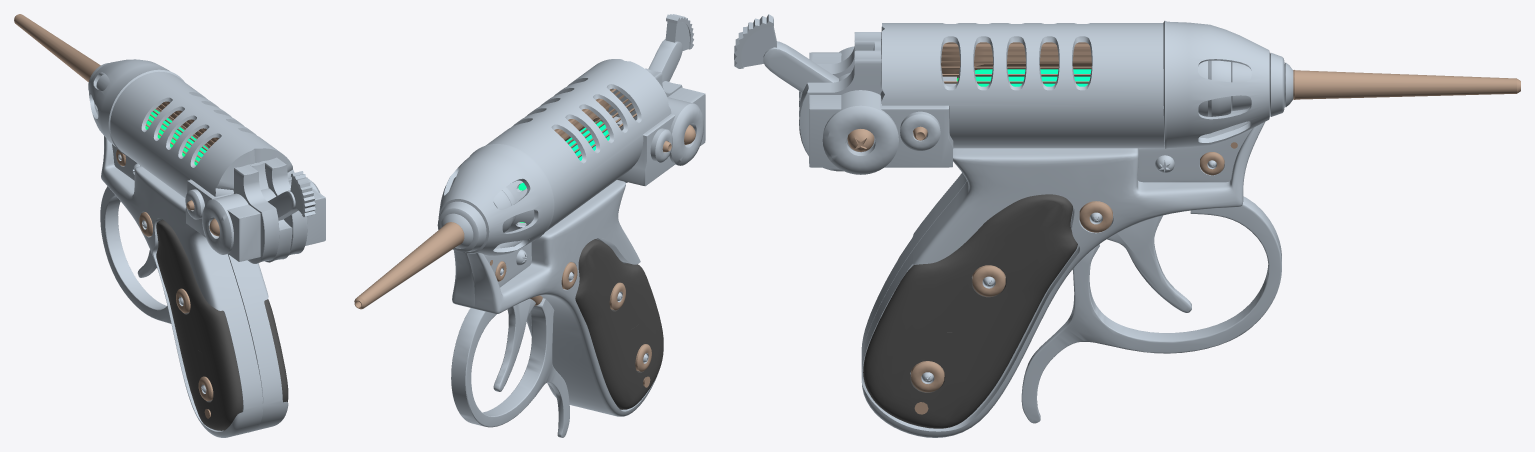
The model's file is archive_sm_noisycricket_01_a.glb.
The picture shows the model from 3 angles, left to right: view 1: azimuth 30°, elevation 25°; view 2: azimuth 150°, elevation 25°; view 3: azimuth 270°, elevation 25°; orthographic projection. The views are drawn at different scales.
Visible parts, largest first — view 1: Cylinder.002; view 2: Cylinder.002; view 3: Cylinder.002.
Boxes of the visible parts, box(x1,y1,x2,y2) form: Cylinder.002: box(14, 14, 325, 437); Cylinder.002: box(354, 14, 705, 437); Cylinder.002: box(734, 14, 1520, 437).
Bounding box in the file's own units: 102 × 278 × 489.
